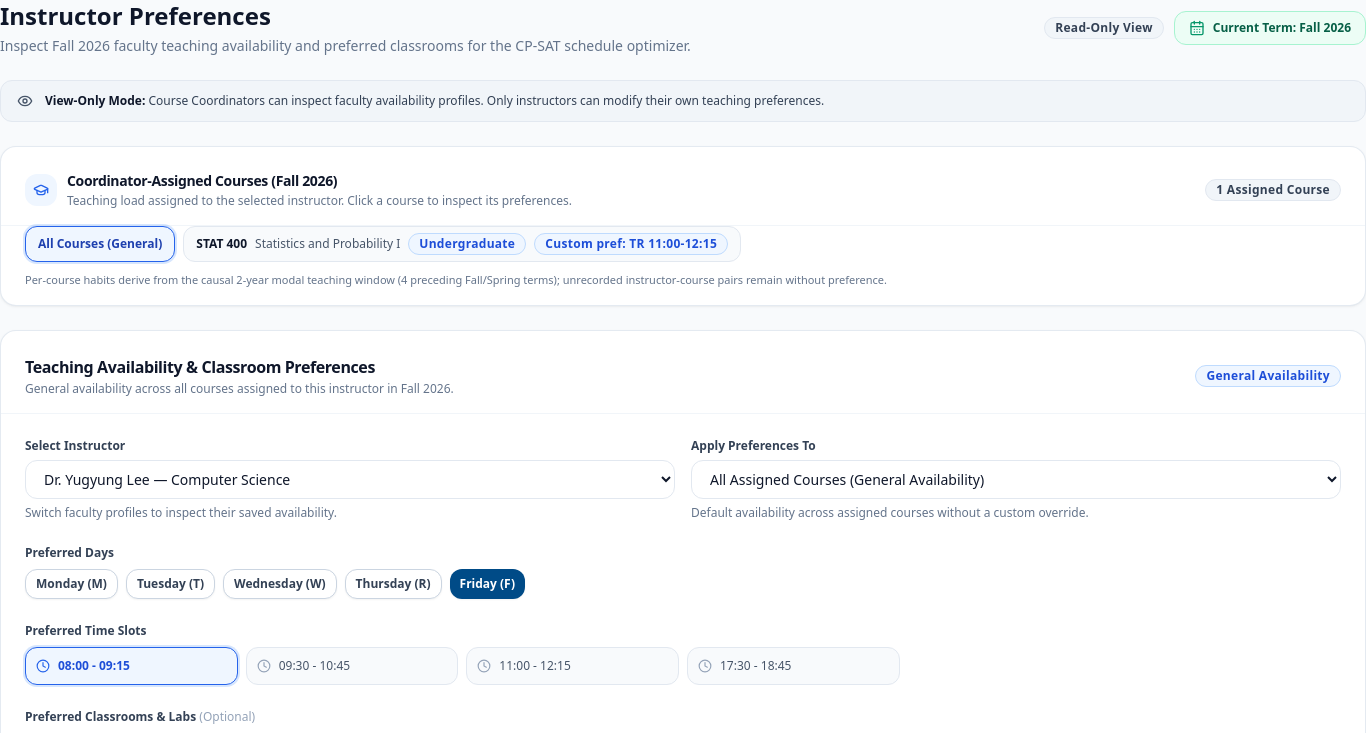
it: PreferencesPage Component › allows Course Coordinators to inspect per-course preferences in read-only mode
The width and height of the screenshot is (1366, 733).
Check: the element with test id "coordinator-readonly-banner" is shown, box x1=0 y1=80 x2=1365 y2=122
Click the button with test id "select-course-scope-400" at (462, 244), box x1=183 y1=226 x2=741 y2=262
(page scrolled)
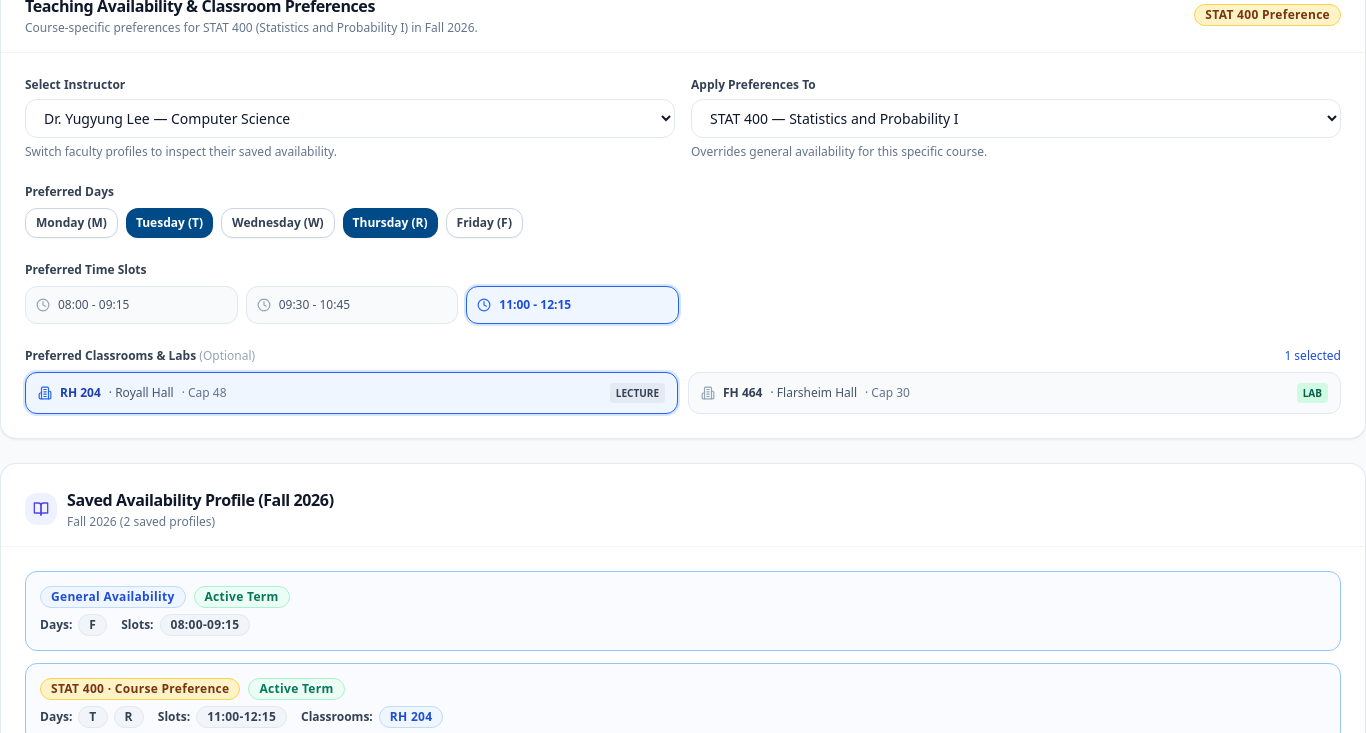
Check: the button with test id "day-btn-Tuesday (T)" is disabled, box x1=126 y1=208 x2=213 y2=238
Check: the text "STAT 400 Preference" is shown, box x1=1194 y1=4 x2=1341 y2=26
